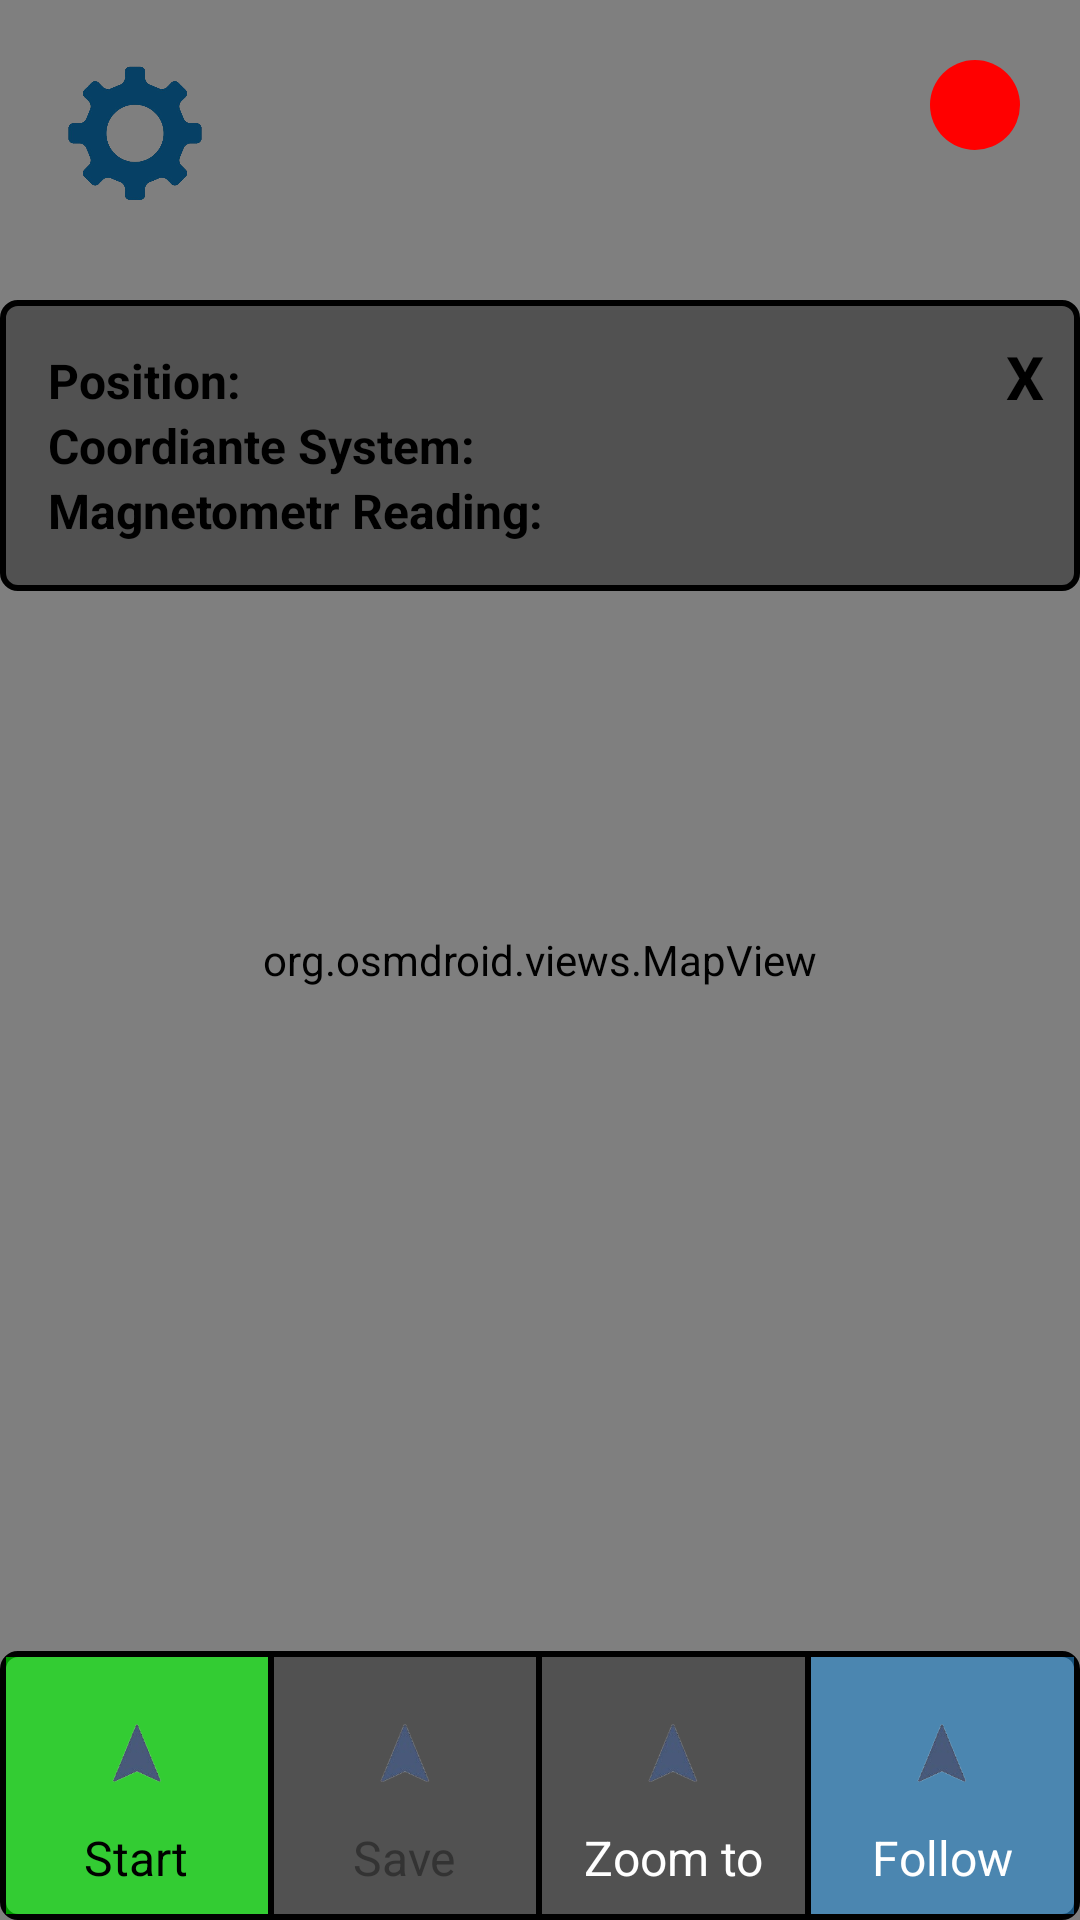

Where icons sit on this 1080×1920 app screen, as (x1, y1, x2, y2):
Settings image: (68, 66, 202, 200)
Zooming to position image: (649, 1724, 697, 1782)
